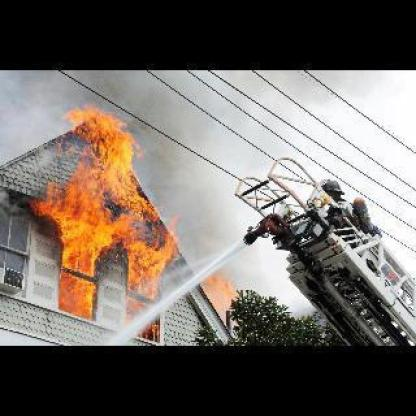fire: (30, 102, 172, 318)
